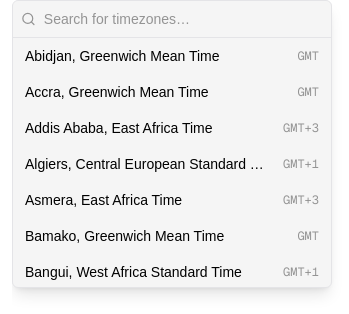
components/common/datetime-picker/timezone-panel › shows the empty state when no timezone matches the search
The image size is (349, 314).
Type "no-such-place-anywhere" into the field with placeholder "Search for timezones…".
click(183, 19); type("no-such-place-anywhere")  # box [44,9,323,29]
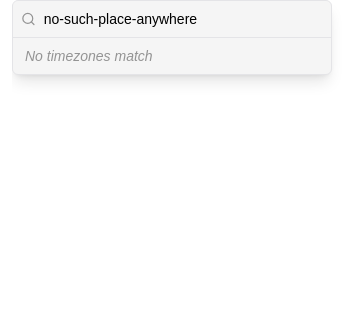
Now the list item "No timezones match" is shown, box [25,48,153,64]
